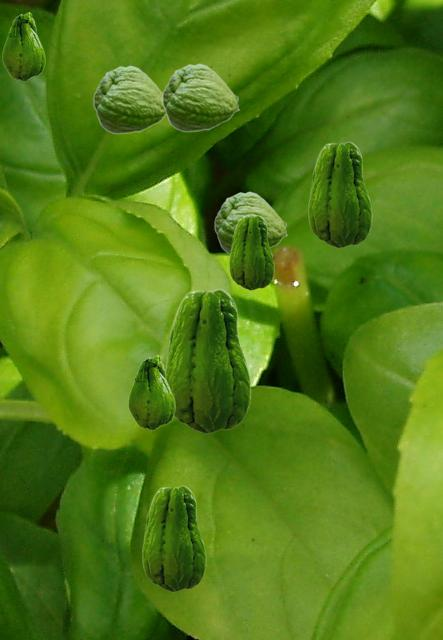sayote: (164, 288, 250, 433), (142, 485, 205, 591), (308, 141, 371, 247), (162, 63, 239, 131), (93, 65, 165, 133), (214, 191, 287, 254), (128, 355, 174, 429), (229, 215, 273, 289), (2, 12, 44, 80)
